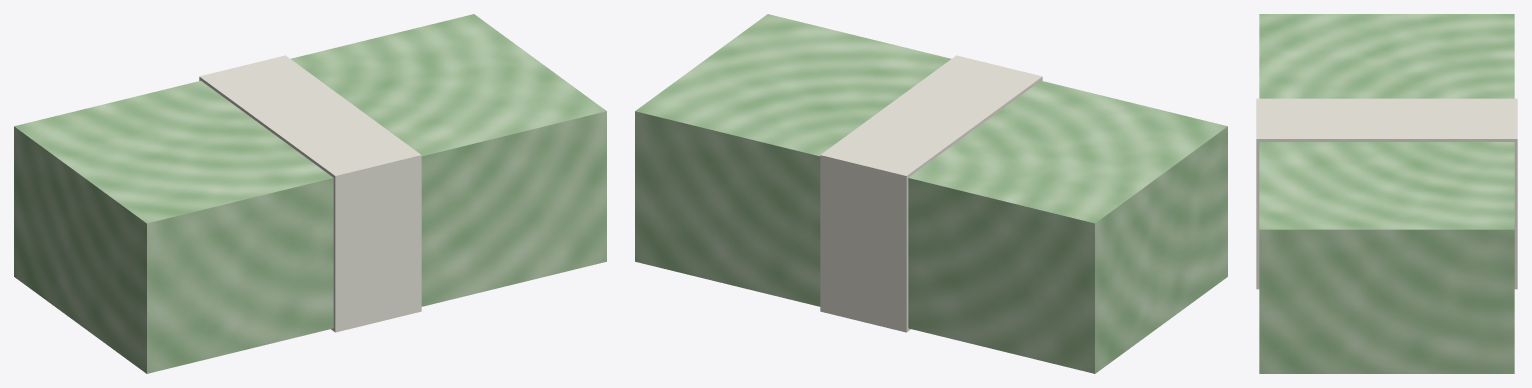
File: loot_cash.obj
3 renders of one model, left to right at view 1: azimuth 30°, elevation 25°; view 2: azimuth 150°, elevation 25°; view 3: azimuth 270°, elevation 25°, orthographic. The views are drawn at different scales.
Visible parts, largest first — view 1: loot_cash; view 2: loot_cash; view 3: loot_cash.
Part boxes in pixels (<box>): loot_cash: <box>14,14,606,373</box>; loot_cash: <box>635,14,1227,373</box>; loot_cash: <box>1256,14,1517,373</box>.
Bounding box in the file's own units: 0.16 × 0.052 × 0.082.
Materials: 2 (1 with a texture image).
